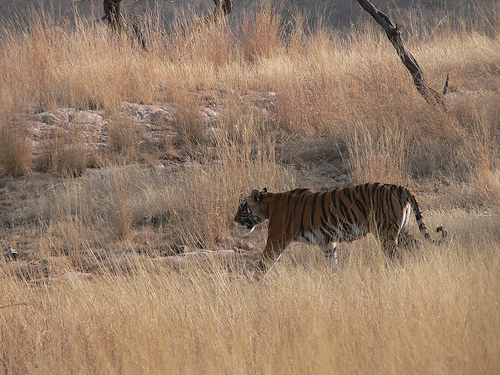Tigre: (233, 182, 447, 274)
